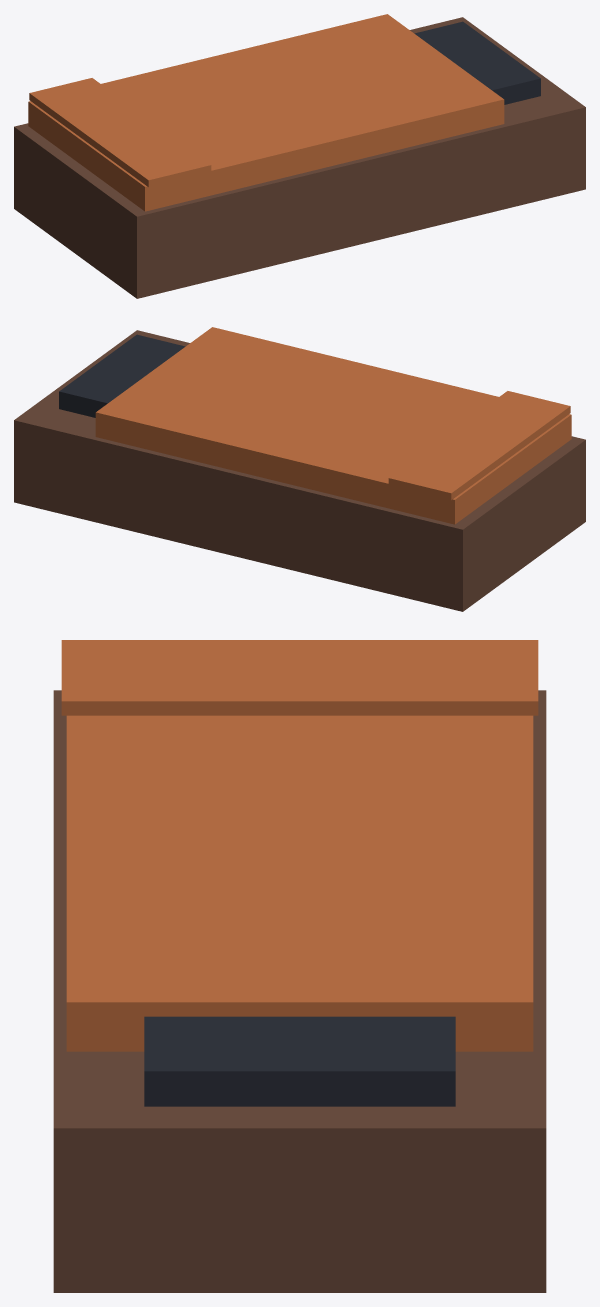
File: bed.glb
3 views of the same model, one above another, from view 1: azimuth 30°, elevation 25°; view 2: azimuth 150°, elevation 25°; view 3: azimuth 270°, elevation 25° (orthographic). The views are drawn at different scales.
Parts seen in each view (by area): view 1: bed; view 2: bed; view 3: bed.
Boxes of the visible parts, left/top/right/bottom form: bed: left=14, top=14, right=585, bottom=298; bed: left=14, top=327, right=585, bottom=611; bed: left=53, top=640, right=546, bottom=1292.
Bounding box in the file's own units: 2 × 0.485 × 0.95.
